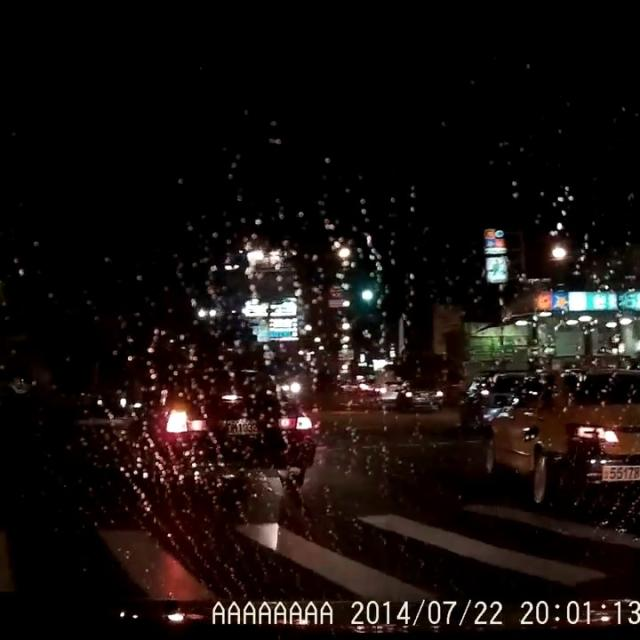Car: (481, 365, 639, 505), (148, 366, 316, 486), (456, 391, 515, 433), (392, 377, 445, 412)
